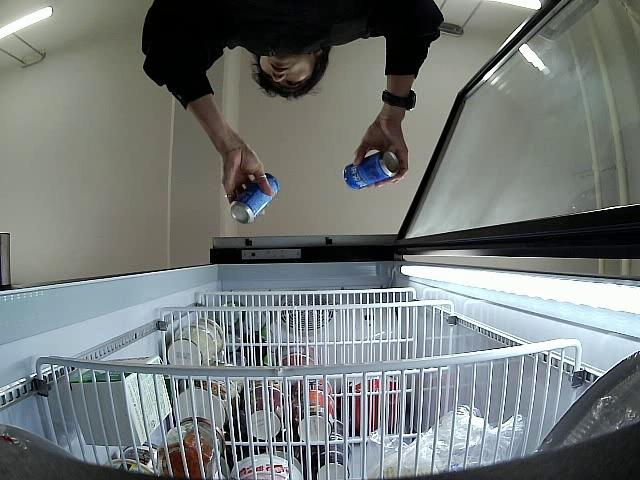00_hand: (350, 117, 410, 193), (223, 146, 270, 203)
15_letsbe: (231, 174, 279, 225), (343, 151, 397, 186)
